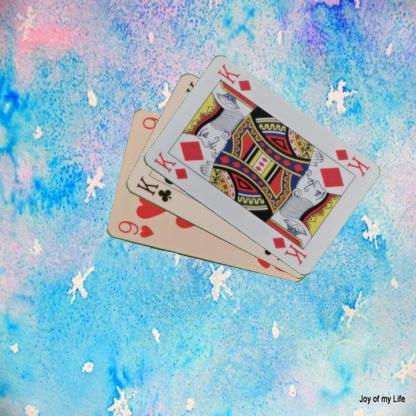9h: (115, 218, 156, 240)
Kc: (133, 174, 173, 204)
Kd: (332, 146, 372, 179), (150, 149, 189, 181)
